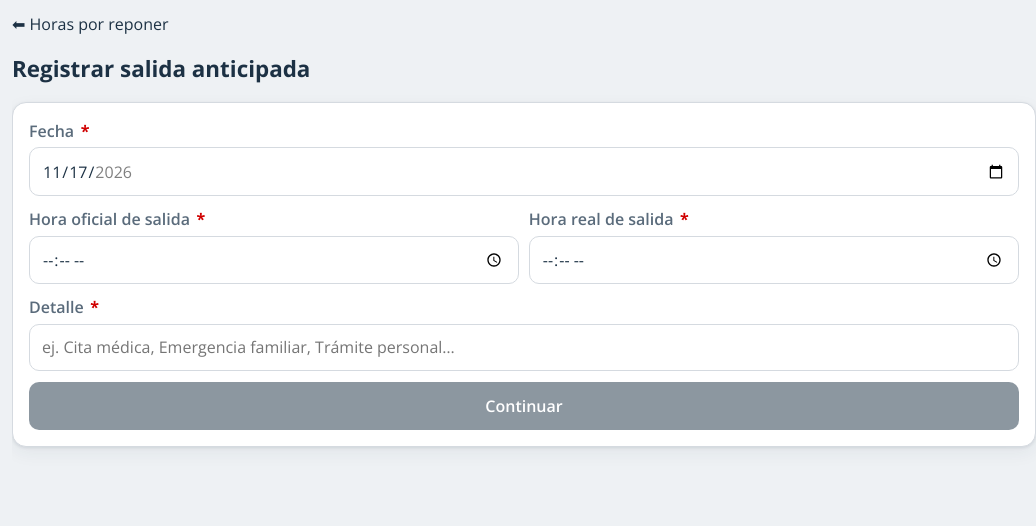
it: EarlyLeaveForm › calcula las horas a reponer en vivo
The image size is (1036, 526).
Type "17:00" into the time field labelled "Hora oficial de salida *" at [274, 260], box [29, 236, 519, 284]
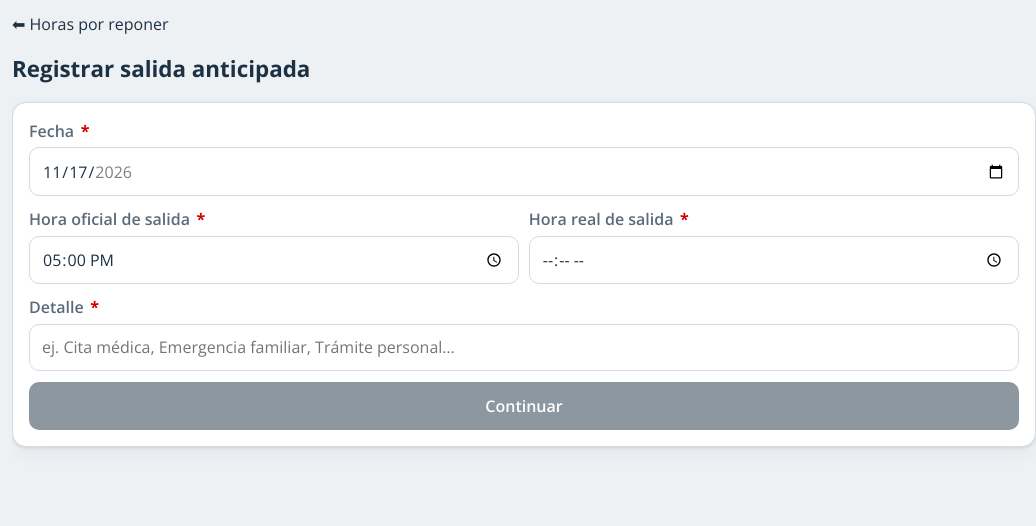
Type "15:30" into the time field labelled "Hora real de salida *" at [774, 260], box [529, 236, 1019, 284]
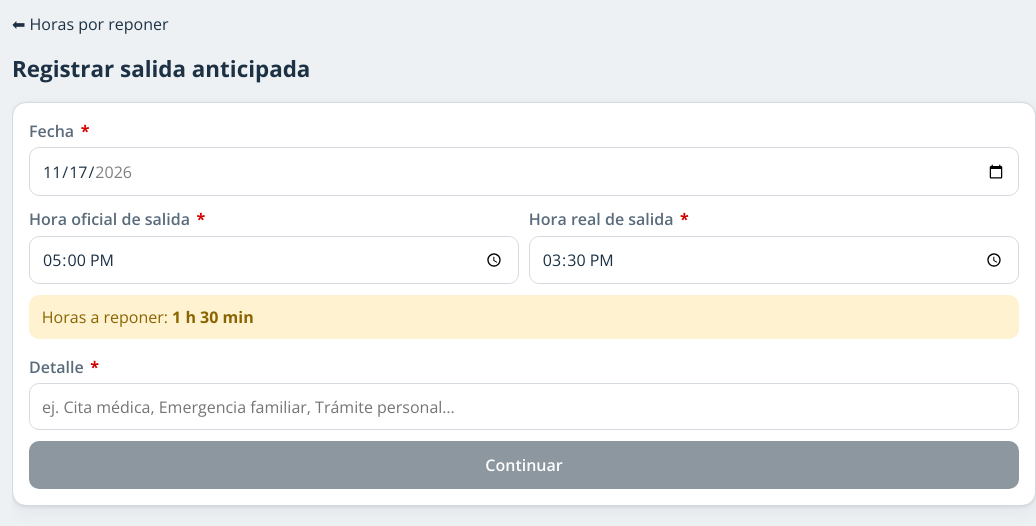
Result: the text "Horas a reponer: 1 h 30 min" is shown at [29, 295, 1019, 338]
